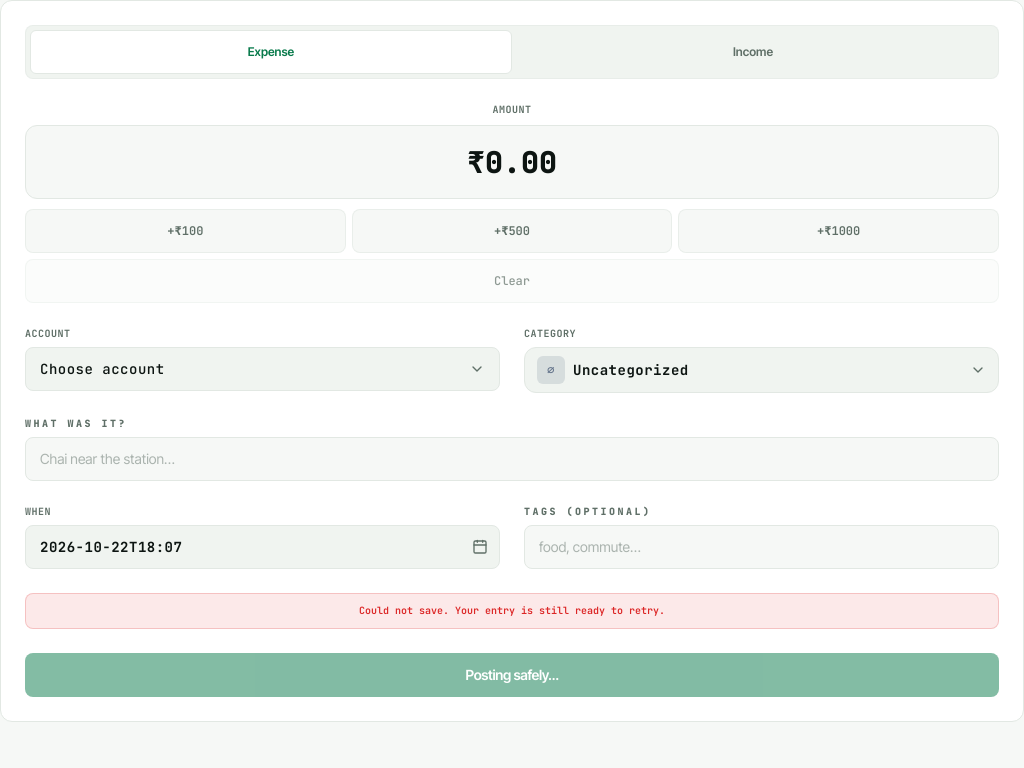
Test: QuickAddForm › adapts category choices and submit feedback to the transaction state
This screenshot has width=1024, height=768.
Expected: the button "Posting safely…" is disabled, [25, 653, 999, 697]
Expected: the text "Could not save. Your entry is still ready to retry." is shown, [25, 593, 999, 629]
Click the dropdown named "Category" at (631, 370), box [524, 347, 999, 393]
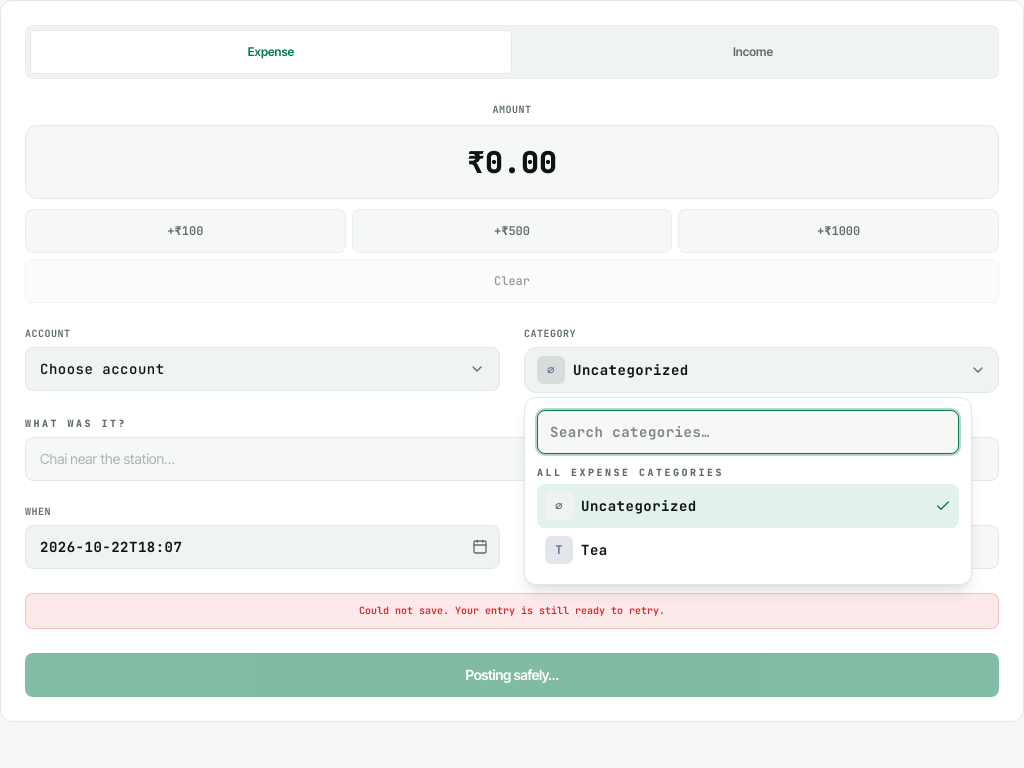
Expected: the option "Salary" is not shown
Expected: the option "T Tea" is shown, [537, 528, 959, 572]
Press Escape
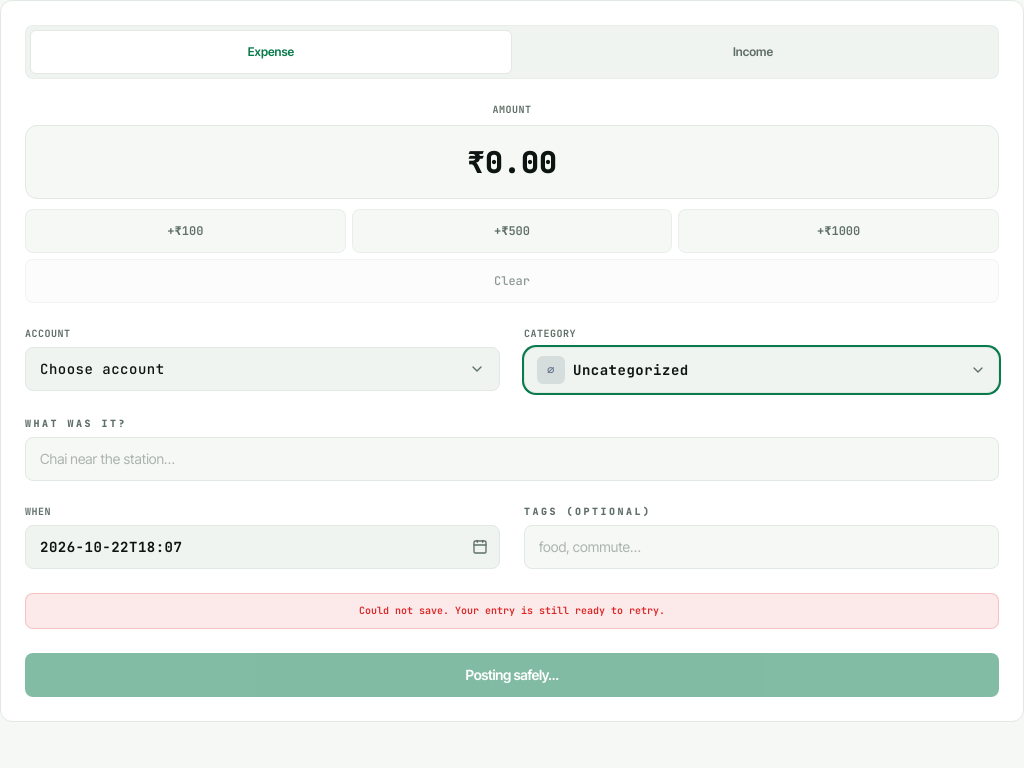
Click the button "Income" at (753, 52), box [512, 30, 994, 74]
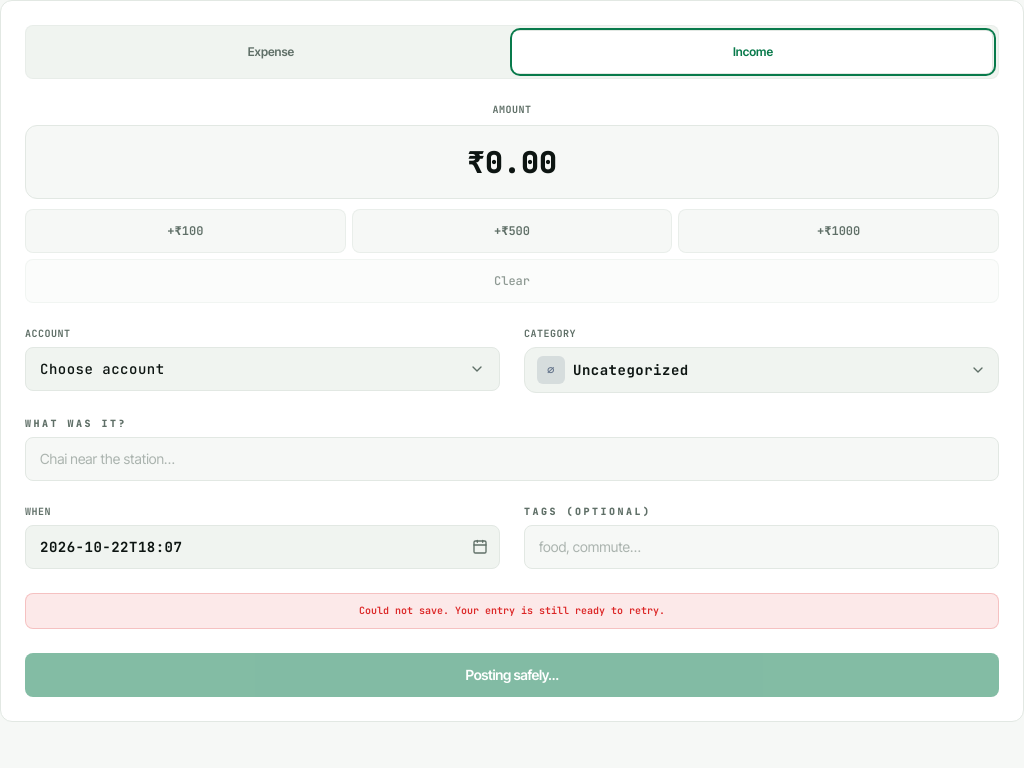
Click the dropdown named "Category" at (631, 370), box [524, 347, 999, 393]
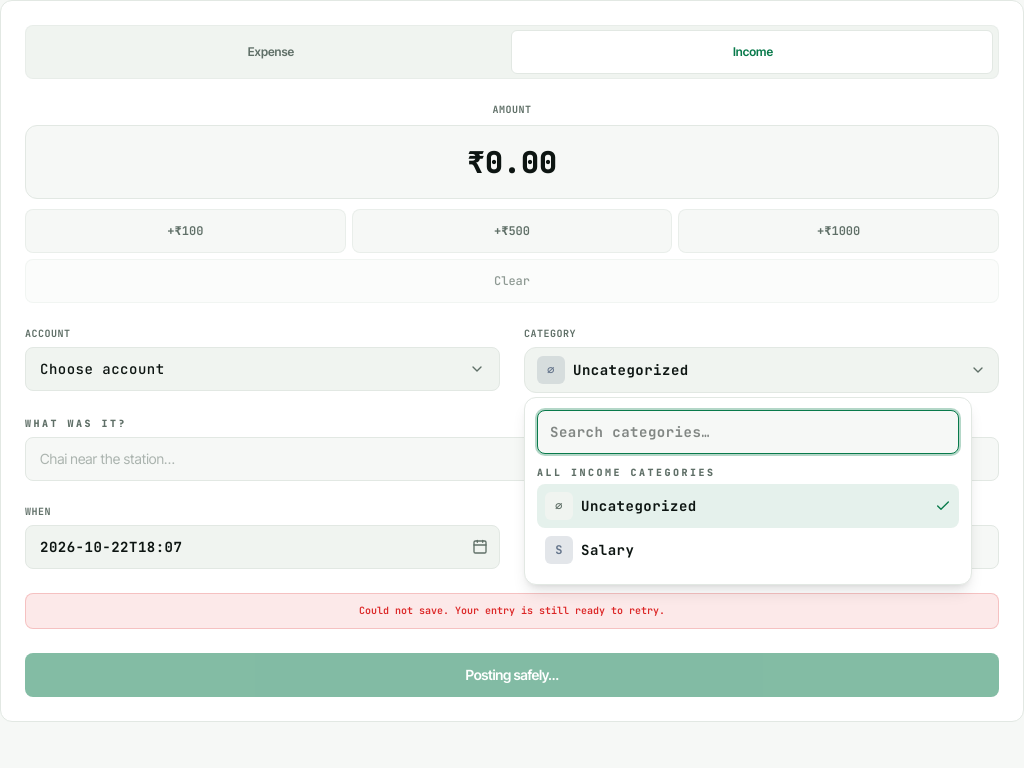
Expected: the option "S Salary" is shown, [537, 528, 959, 572]
